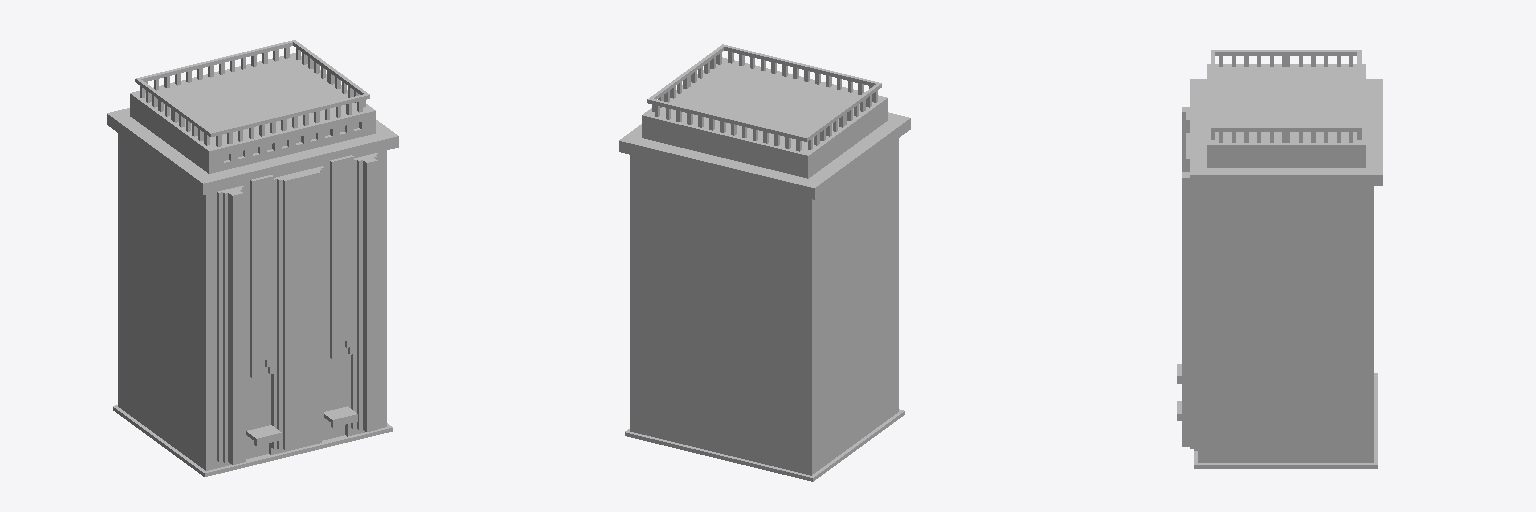
File: store.obj
The picture shows the model from 3 angles: view 1: azimuth 30°, elevation 25°; view 2: azimuth 150°, elevation 25°; view 3: azimuth 270°, elevation 25°; orthographic projection.
Visible parts, largest first — view 1: object 1; view 2: object 1; view 3: object 1.
Boxes of the visible parts, <box> form: object 1: <box>107,40,398,476</box>; object 1: <box>619,44,910,481</box>; object 1: <box>1177,50,1382,468</box>.
Bounding box in the file's own units: 5.4 × 8.8 × 4.9.